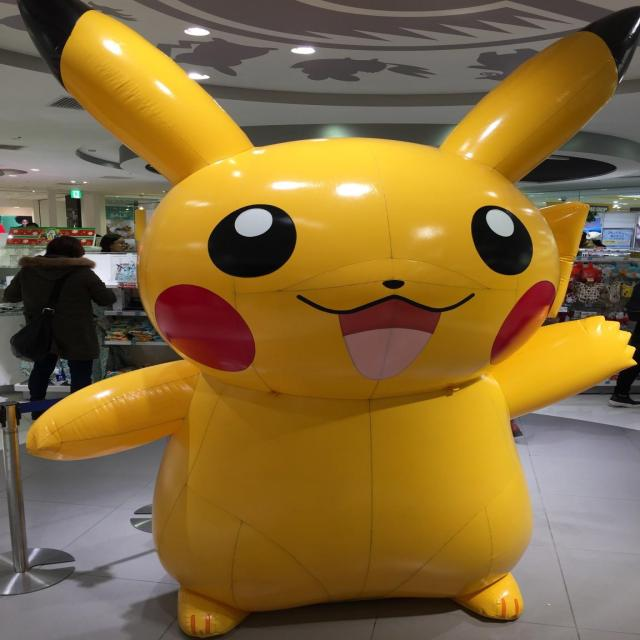pikachu: (25, 0, 640, 635)
